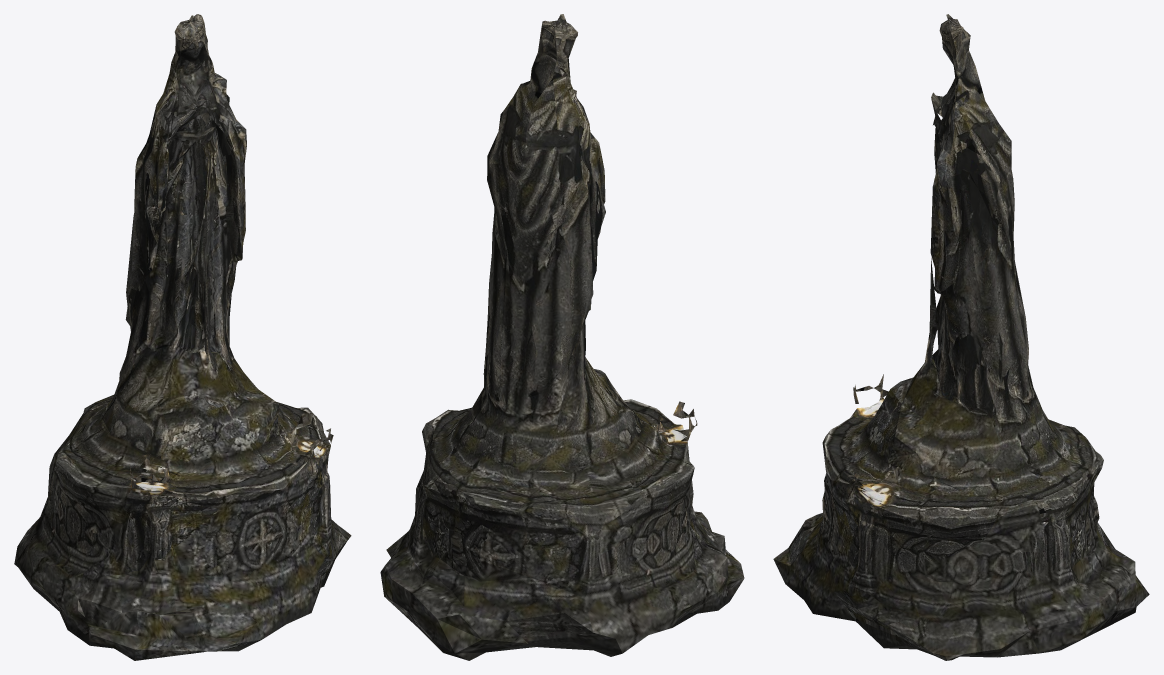
File: world-statue.glb
3 views of the same model, side by side, from view 1: azimuth 30°, elevation 25°; view 2: azimuth 150°, elevation 25°; view 3: azimuth 270°, elevation 25° (orthographic). The views are drawn at different scales.
Parts seen in each view (by area): view 1: output_unwrapped; view 2: output_unwrapped; view 3: output_unwrapped.
Part boxes in pixels (x1,y1,x2,y2): output_unwrapped: (14, 14, 351, 660); output_unwrapped: (380, 14, 744, 660); output_unwrapped: (773, 14, 1149, 660).
Size of the model in its own units: 1.9 by 3.5 by 2.04.
1 material, 1 textured.
